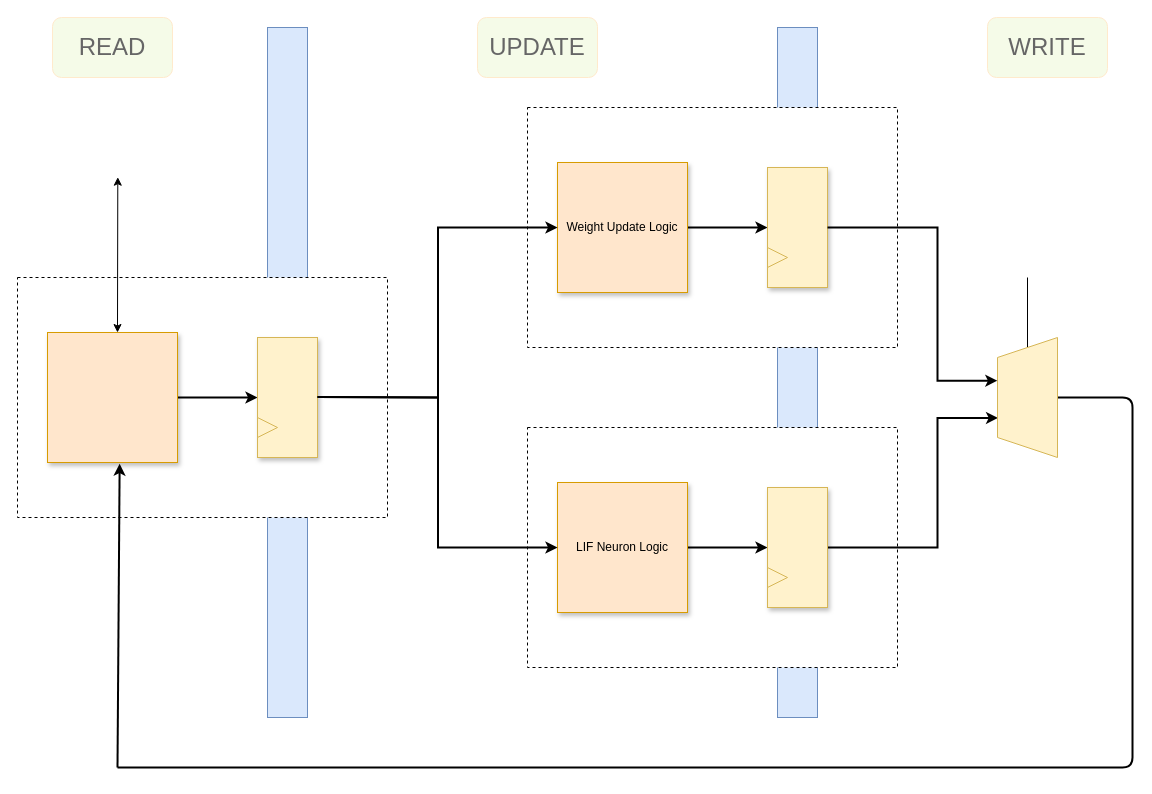
Image size: 1152x794. Some labels were removed from this diagram. The shapes that lost their labels are listed below. From the top down, each one's centre as x and y in pixels, then its label:
the point at 113,399: RAM
the point at 1027,397: MUX
